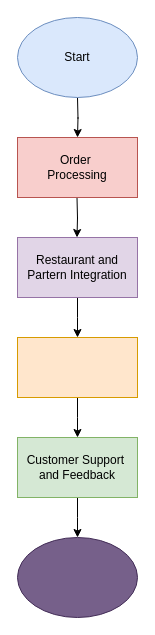
This 155x635 diagram has some shape labels left out. Each missing label, with the box of its shape:
Order Fullfillment and Delivery: (16, 336, 138, 398)
Stop: (16, 536, 138, 618)
